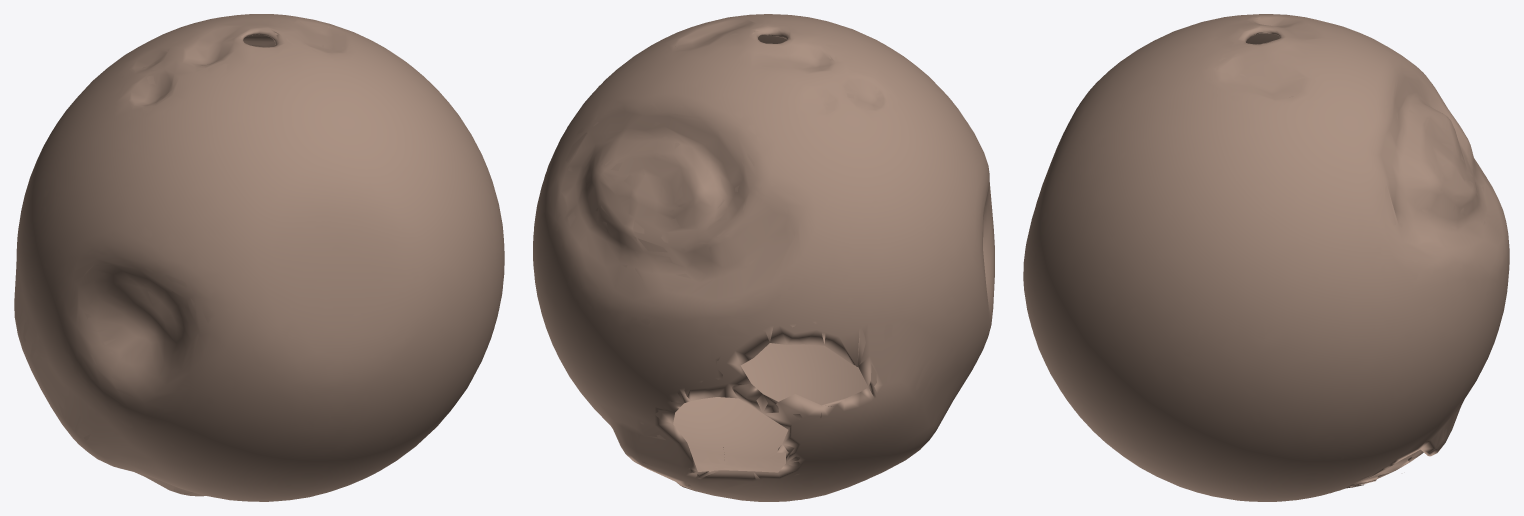
Rendered from planeetta1_ala_uusi 1.fbx.
3 renders of one model, left to right at view 1: azimuth 30°, elevation 25°; view 2: azimuth 150°, elevation 25°; view 3: azimuth 270°, elevation 25°, orthographic. The views are drawn at different scales.
Parts seen in each view (by area): view 1: planeetta1_ala_1; view 2: planeetta1_ala_1; view 3: planeetta1_ala_1.
Boxes of the visible parts, box(x1,y1,x2,y2) form: planeetta1_ala_1: box(14, 14, 504, 501); planeetta1_ala_1: box(533, 14, 994, 501); planeetta1_ala_1: box(1023, 14, 1509, 501).
Size of the model in its own units: 36581 by 37301 by 36429.
